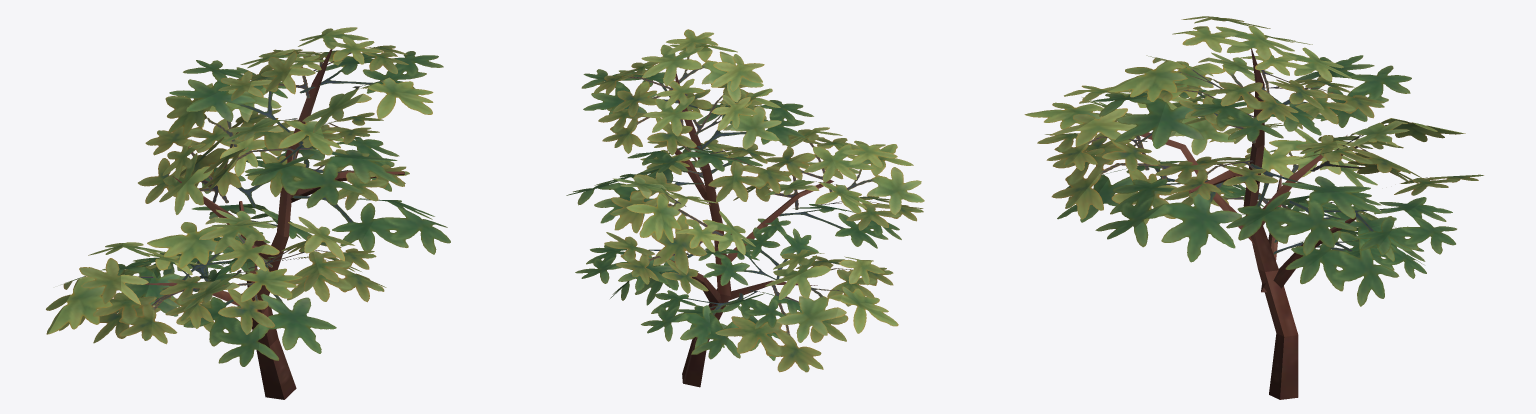
File: tongyong_toutie_10_09.fbx
The picture shows the model from 3 angles, left to right: view 1: azimuth 30°, elevation 25°; view 2: azimuth 150°, elevation 25°; view 3: azimuth 270°, elevation 25°; orthographic projection. The views are drawn at different scales.
Visible parts, largest first — view 1: tongyong_toutie_10_09; view 2: tongyong_toutie_10_09; view 3: tongyong_toutie_10_09.
Part boxes in pixels (box(x1,y1,x2,y2)): tongyong_toutie_10_09: box(46, 27, 450, 399); tongyong_toutie_10_09: box(566, 29, 924, 387); tongyong_toutie_10_09: box(1024, 16, 1483, 399).
Size of the model in its own units: 311 by 250 by 311.
